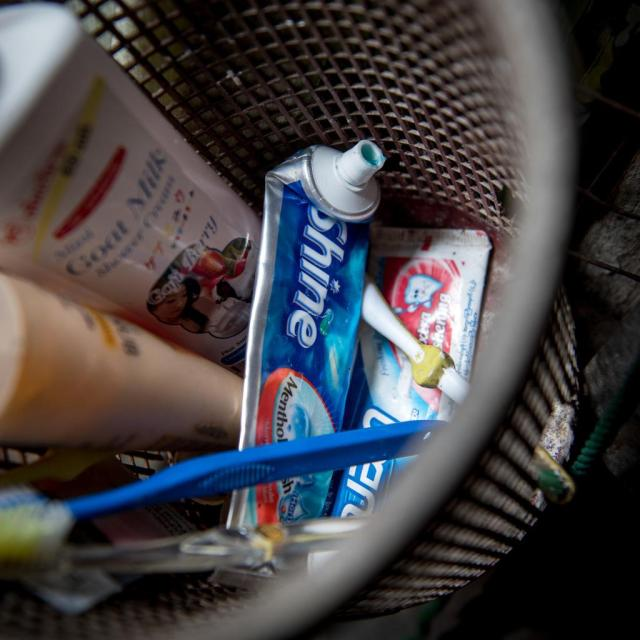Toothpaste: (229, 133, 399, 554)
